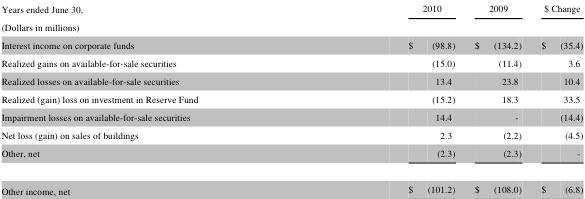table: (0, 1, 582, 196)
table column: (0, 1, 302, 196), (302, 1, 464, 196), (464, 1, 530, 196), (530, 1, 582, 196)
table column header: (0, 1, 582, 17)
table projected row header: (0, 17, 582, 35)
table row: (0, 143, 582, 170), (0, 170, 582, 196), (0, 17, 582, 35), (0, 35, 582, 53), (0, 53, 582, 71), (0, 71, 582, 89), (0, 89, 582, 107), (0, 107, 582, 125), (0, 125, 582, 143), (0, 1, 582, 17)
